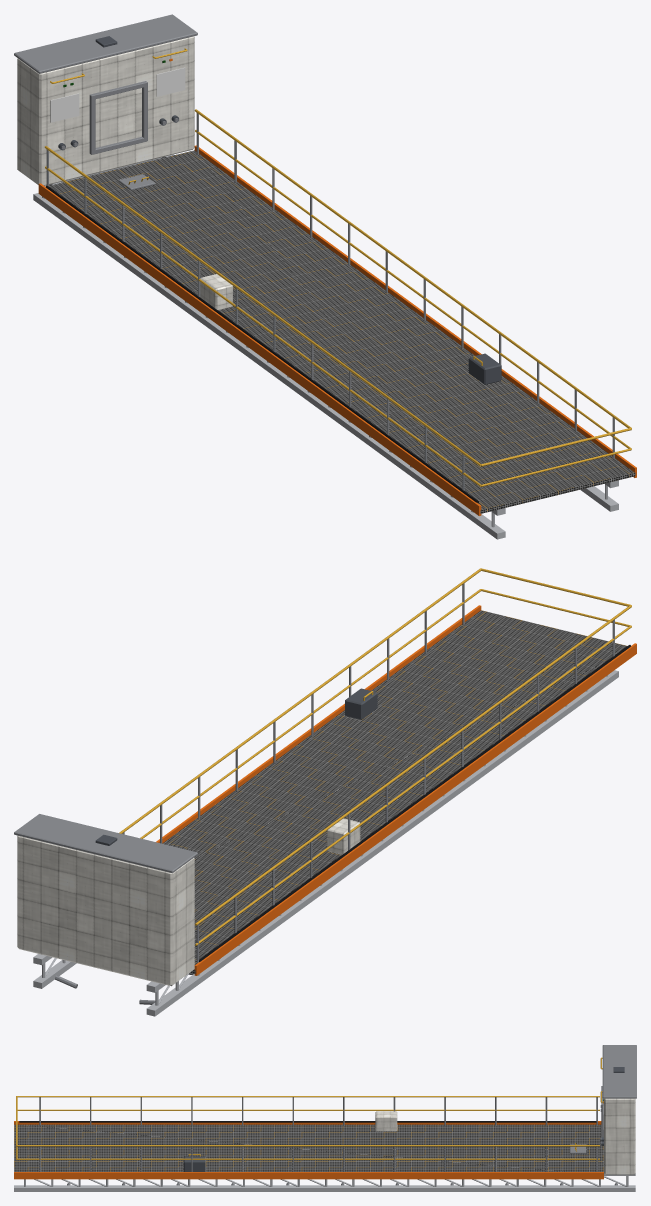
File: eva_deck.obj
3 renders of one model, top to bottom at view 1: azimuth 30°, elevation 25°; view 2: azimuth 150°, elevation 25°; view 3: azimuth 270°, elevation 25°, orthographic. The views are drawn at different scales.
Parts seen in each view (by area): view 1: eva_deck; view 2: eva_deck; view 3: eva_deck.
Boxes of the visible parts, <box> form: eva_deck: <box>14,14,636,539</box>; eva_deck: <box>14,568,636,1016</box>; eva_deck: <box>14,1045,636,1191</box>.
Bounding box in the file's own units: 4.5 × 4.29 × 22.75.
Materials: 10 (2 with a texture image).
